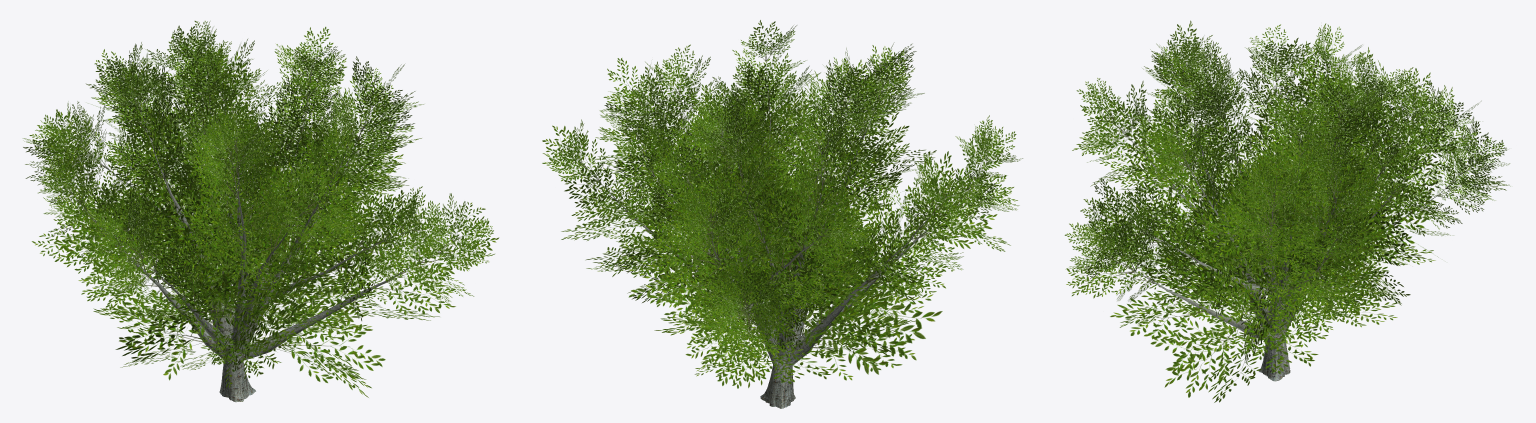
The model's file is shu.glb.
The picture shows the model from 3 angles, left to right: view 1: azimuth 30°, elevation 25°; view 2: azimuth 150°, elevation 25°; view 3: azimuth 270°, elevation 25°; orthographic projection. The views are drawn at different scales.
Visible parts, largest first — view 1: Scheme; view 2: Scheme; view 3: Scheme.
Boxes of the visible parts, left/top/right/bottom form: Scheme: left=23, top=21, right=498, bottom=402; Scheme: left=542, top=20, right=1022, bottom=408; Scheme: left=1064, top=20, right=1510, bottom=402.
Size of the model in its own units: 4.7 by 3.72 by 4.75.
2 materials, 2 textured.
